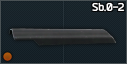SOK-12 dust cover Sb.0-2: (0, 0, 127, 64)
